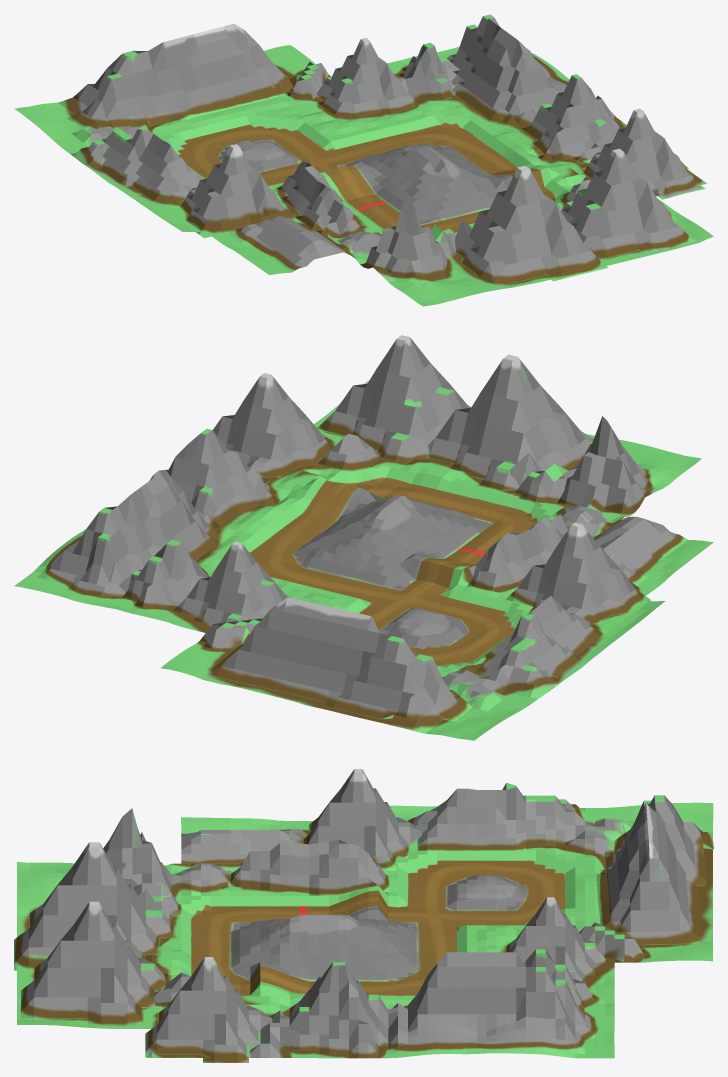
File: grass_track.obj
The picture shows the model from 3 angles, top to bottom: view 1: azimuth 30°, elevation 25°; view 2: azimuth 150°, elevation 25°; view 3: azimuth 270°, elevation 25°; orthographic projection. The views are drawn at different scales.
Bounding box in the file's own units: 11.18 × 2.18 × 13.11.
Materials: 1 (1 with a texture image).
